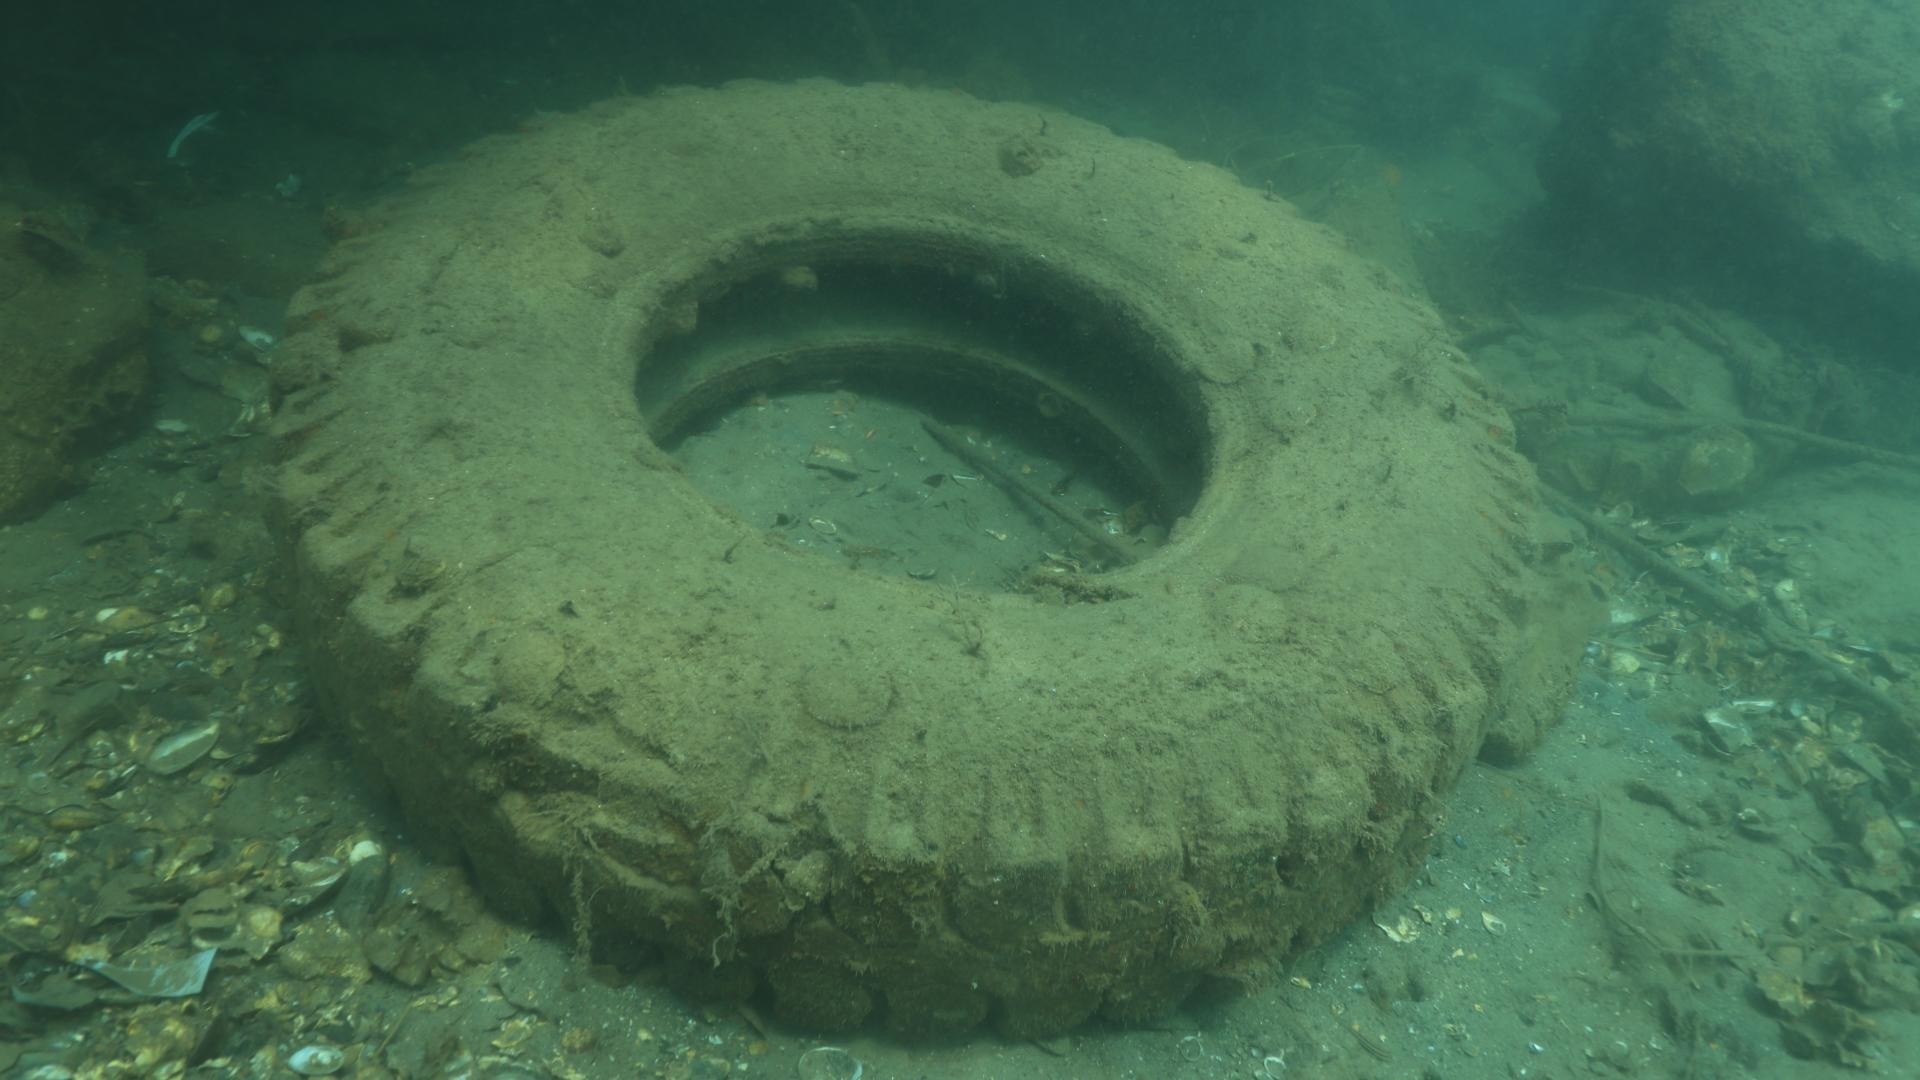tire: (256, 74, 1544, 1043)
